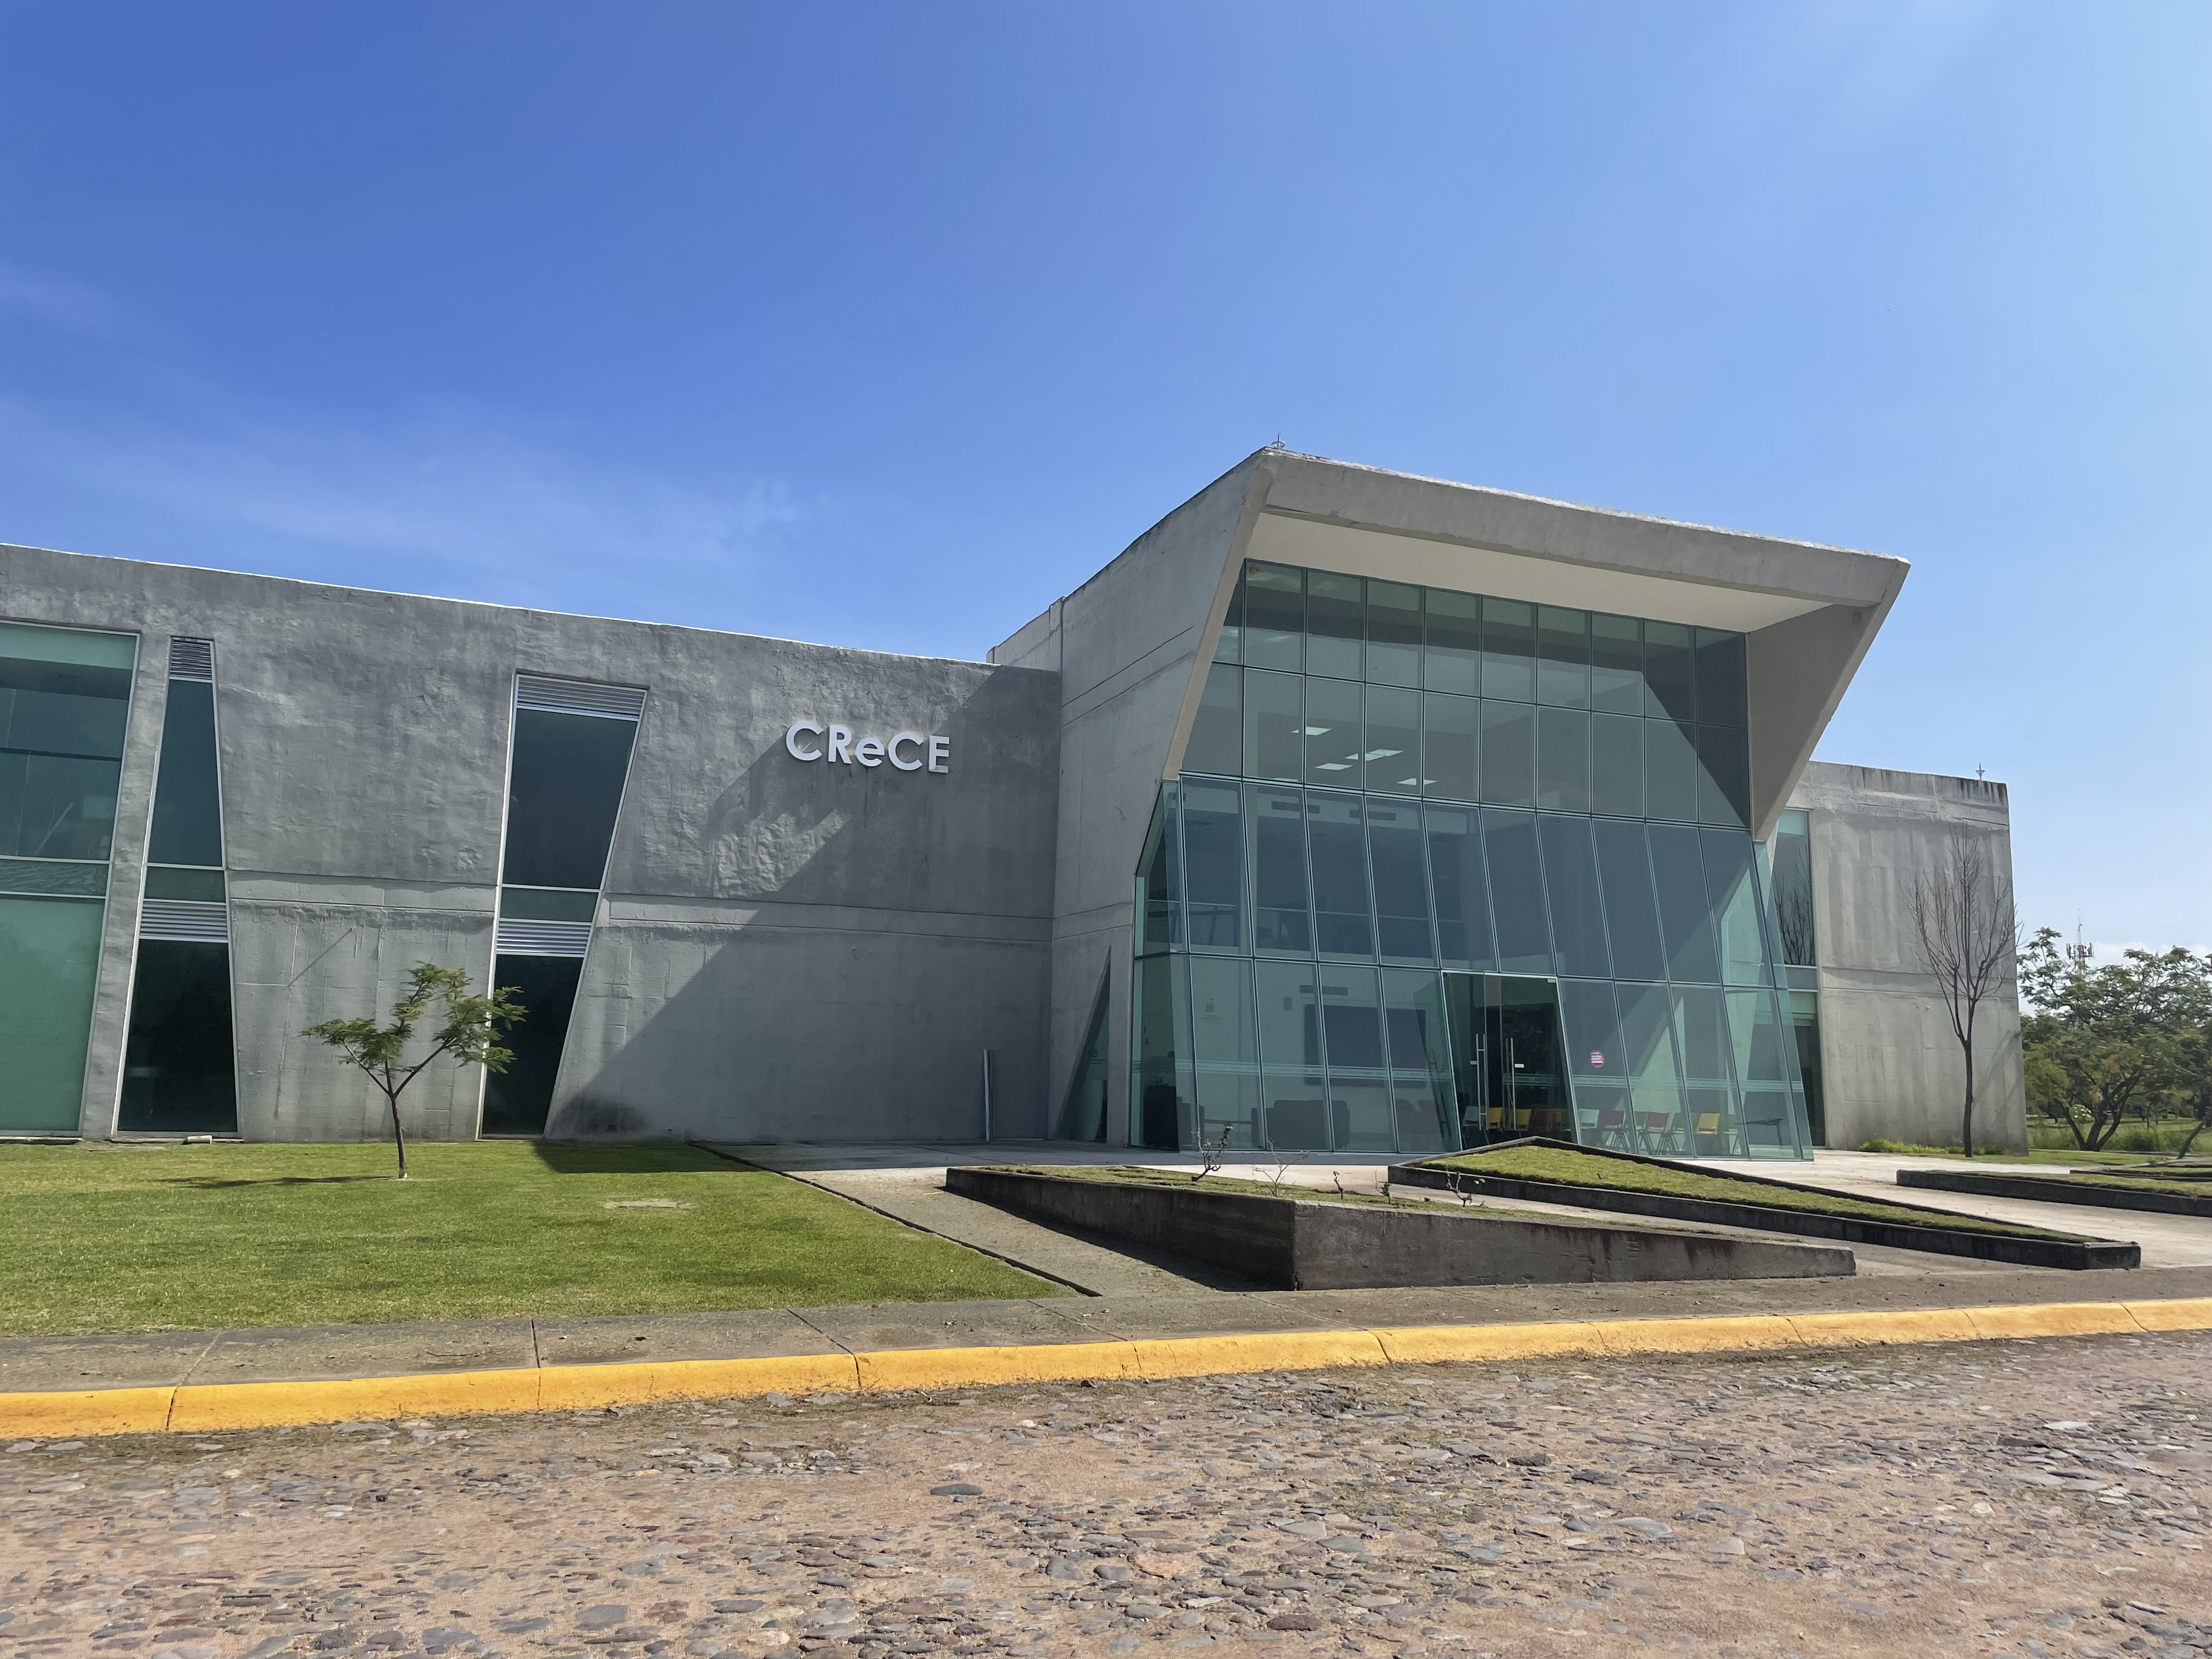crece: (7, 345, 2102, 1229)
